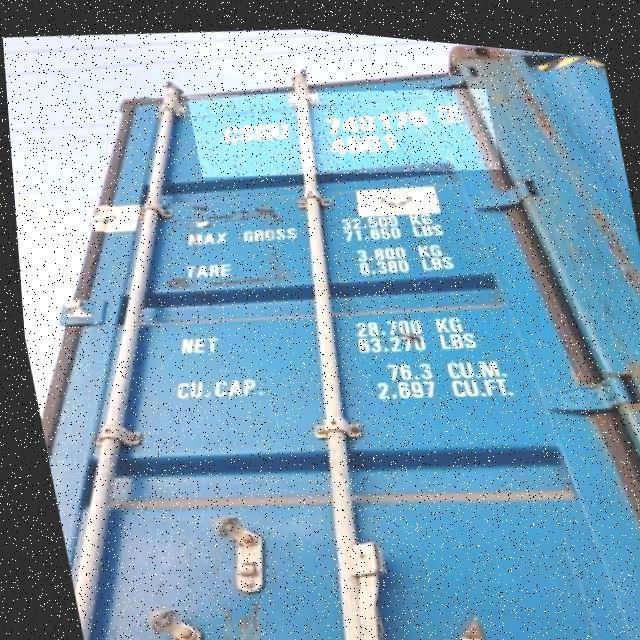container_number_h: (183, 55, 502, 196)
